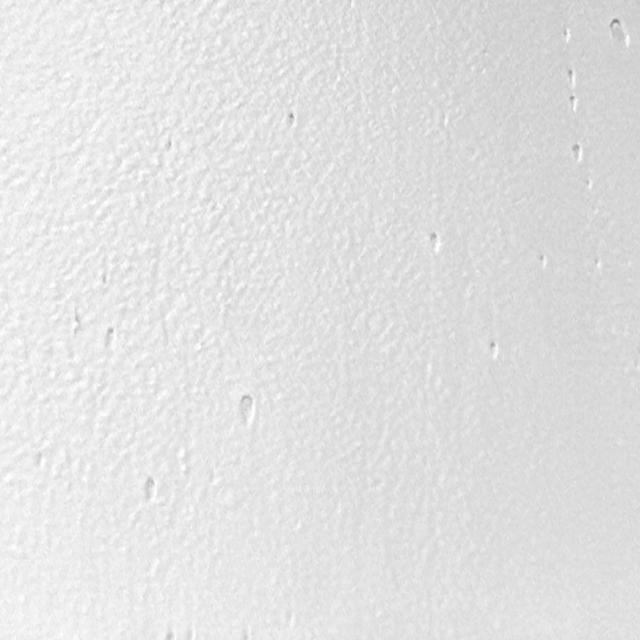pin holes: (235, 391, 259, 427), (606, 17, 629, 48), (141, 476, 162, 505), (425, 230, 444, 256), (485, 339, 504, 363), (103, 324, 120, 349), (570, 142, 586, 164), (286, 112, 302, 133), (569, 93, 582, 114), (566, 67, 578, 88), (560, 25, 572, 46), (591, 256, 604, 275), (536, 253, 550, 270)
